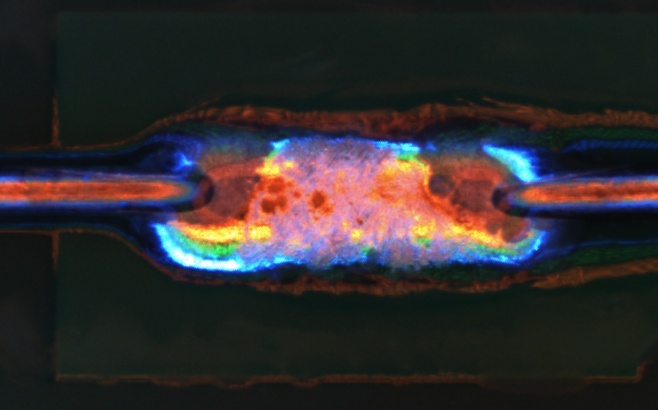spring: (1, 150, 217, 220), (487, 168, 658, 220)
spring_pin: (126, 109, 570, 289)
